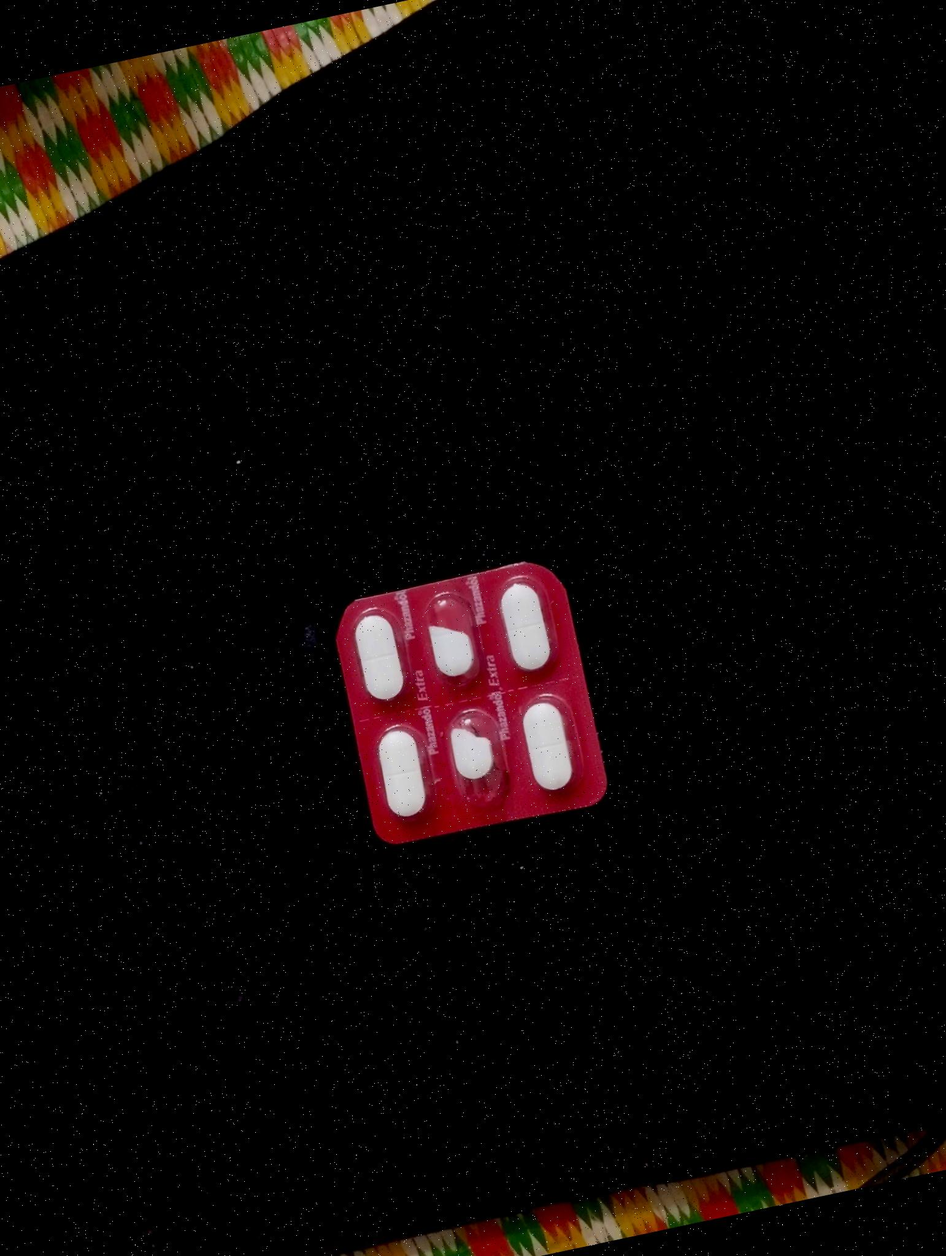Full: (345, 599, 423, 713), (513, 690, 584, 802), (368, 722, 440, 822), (491, 572, 561, 674)
Partial: (415, 584, 502, 706), (437, 705, 518, 815)
